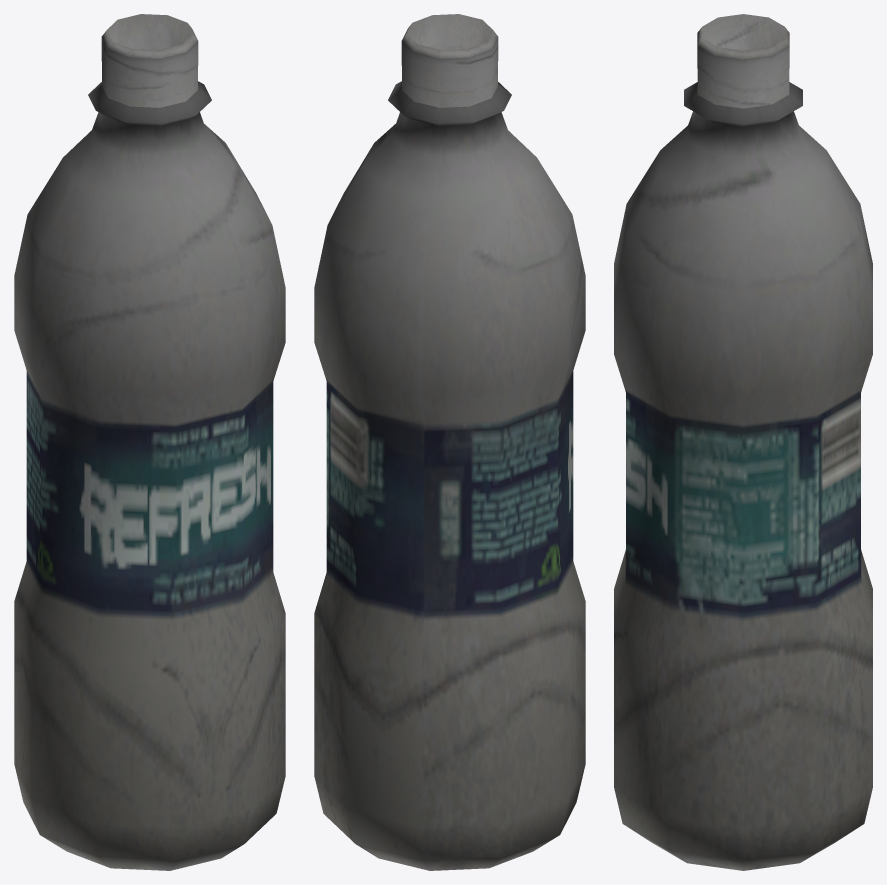
Rendered from Common_Props_WaterContainer_Small_Empty_3P_LOD0.glb.
The picture shows the model from 3 angles, left to right: view 1: azimuth 30°, elevation 25°; view 2: azimuth 150°, elevation 25°; view 3: azimuth 270°, elevation 25°; orthographic projection.
Parts seen in each view (by area): view 1: Hoodie; view 2: Hoodie; view 3: Hoodie.
Part boxes in pixels (bbox=[...]): Hoodie: bbox=[14, 14, 285, 870]; Hoodie: bbox=[314, 14, 585, 870]; Hoodie: bbox=[614, 14, 872, 870].
Bounding box in the file's own units: 0.0824 × 0.2666 × 0.0784.
Materials: 1 (1 with a texture image).
